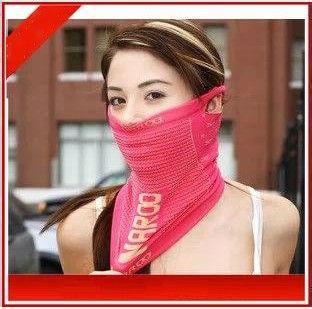WRONG: (105, 75, 191, 166)
